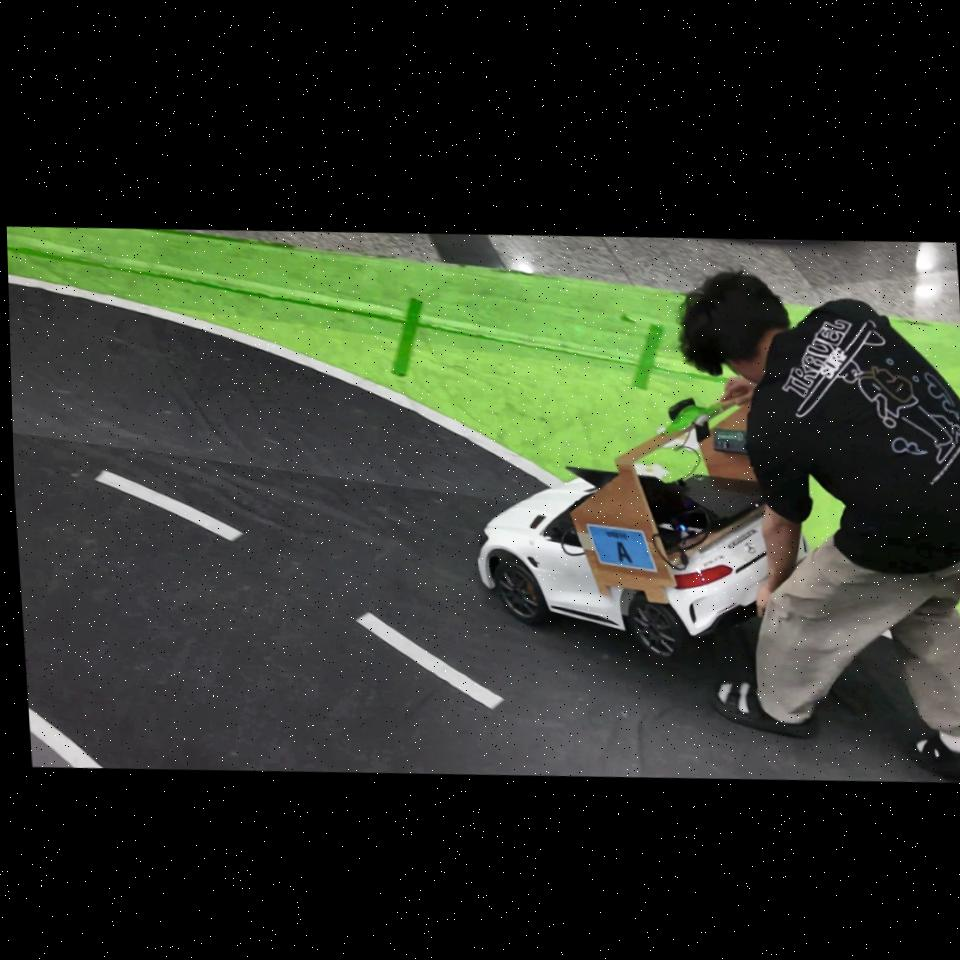broken_line: (357, 613, 503, 708), (95, 471, 242, 541)
